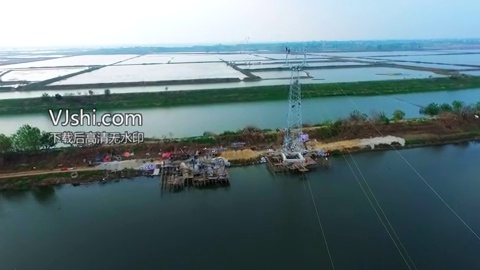tower_body: (282, 45, 307, 153)
tower_head: (284, 48, 306, 71)
